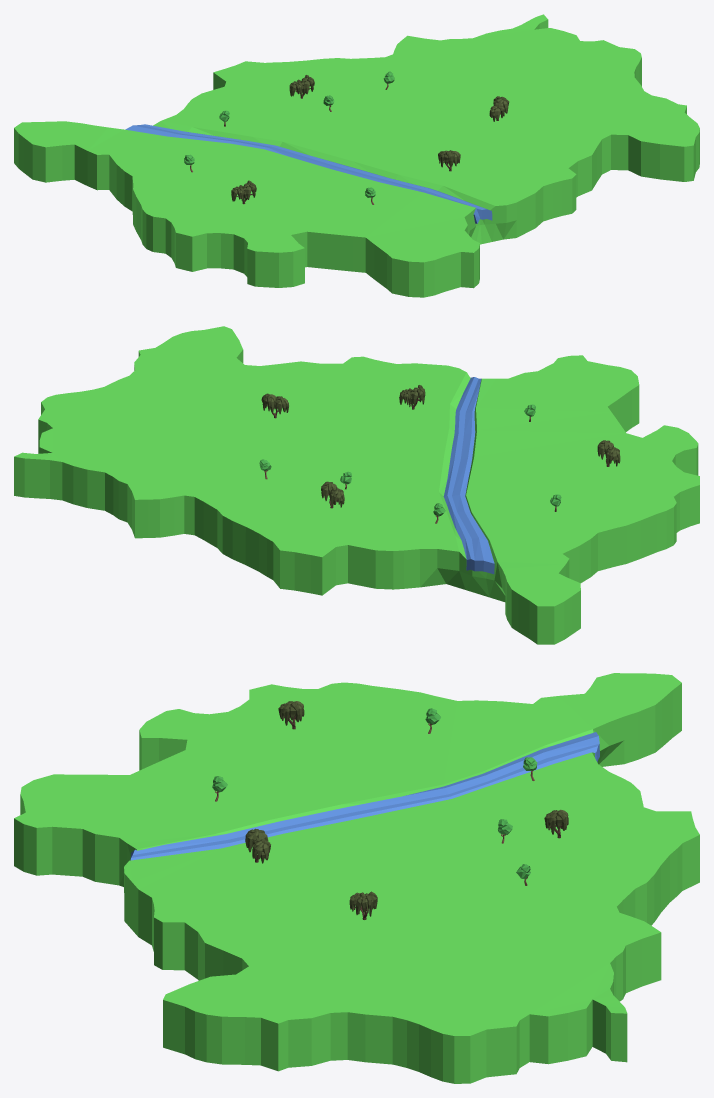
Rendered from vienna.glb.
3 renders of one model, top to bottom at view 1: azimuth 30°, elevation 25°; view 2: azimuth 150°, elevation 25°; view 3: azimuth 270°, elevation 25°, orthographic. The views are drawn at different scales.
Parts seen in each view (by area): view 1: non-triangulated.001; view 2: non-triangulated.001; view 3: non-triangulated.001, Tree_Type6_04_mesh.003.
Part boxes in pixels (<box>): non-triangulated.001: <box>14,14,699,297</box>; non-triangulated.001: <box>14,326,699,644</box>; non-triangulated.001: <box>14,673,699,1083</box>; Tree_Type6_04_mesh.003: <box>245,828,270,863</box>.
Bounding box in the file's own units: 0.8978 × 0.0967 × 0.7171.
16 materials, 4 textured.
